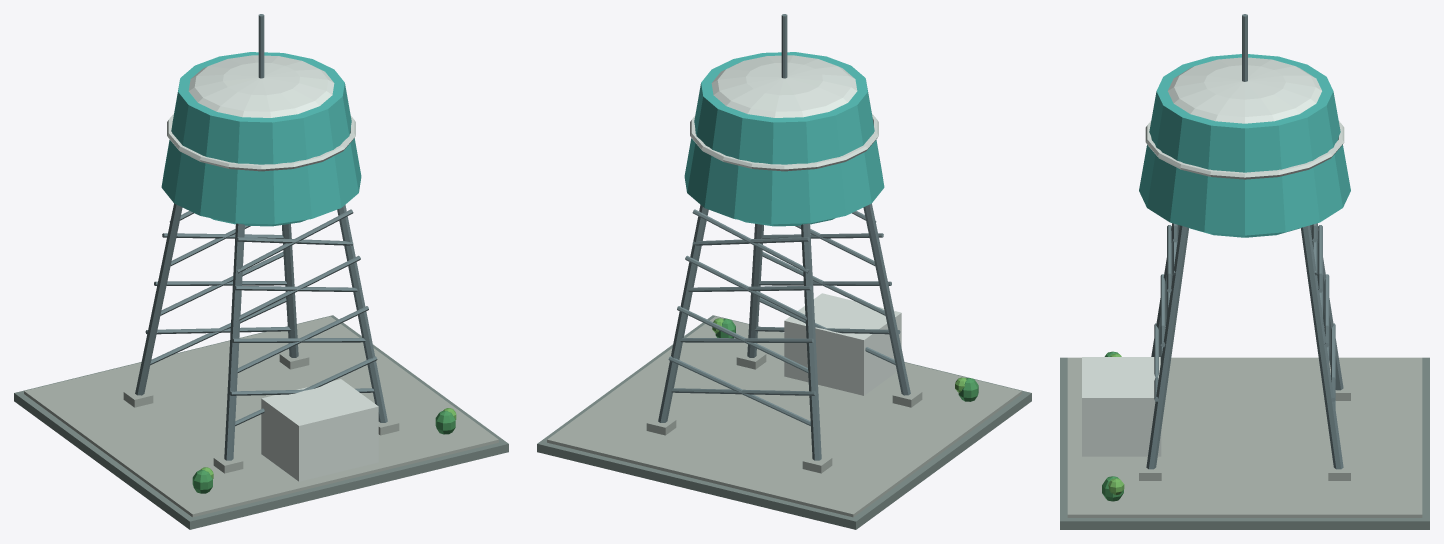
Rendered from water_lv2.glb.
3 views of the same model, side by side, from view 1: azimuth 30°, elevation 25°; view 2: azimuth 150°, elevation 25°; view 3: azimuth 270°, elevation 25° (orthographic). The views are drawn at different scales.
Parts seen in each view (by area): view 1: concrete, turquoise, white, steel, pavement, green; view 2: concrete, turquoise, white, steel, pavement, green; view 3: concrete, turquoise, white, steel, pavement.
Boxes of the visible parts, box(x1,y1,x2,y2) form: concrete: box(24, 316, 498, 517); turquoise: box(161, 52, 361, 226); white: box(167, 55, 378, 481); steel: box(135, 14, 387, 460); pavement: box(14, 315, 508, 529); green: box(192, 411, 455, 493); concrete: box(547, 316, 1021, 517); turquoise: box(684, 52, 884, 226); white: box(690, 55, 901, 395); steel: box(658, 14, 910, 460); pavement: box(537, 315, 1031, 529); green: box(715, 318, 978, 401); concrete: box(1067, 357, 1422, 517); turquoise: box(1139, 54, 1350, 237); white: box(1082, 57, 1344, 456); steel: box(1146, 14, 1343, 469); pavement: box(1060, 357, 1429, 529).
Bounding box in the file's own units: 8.8 × 10.85 × 8.4.
